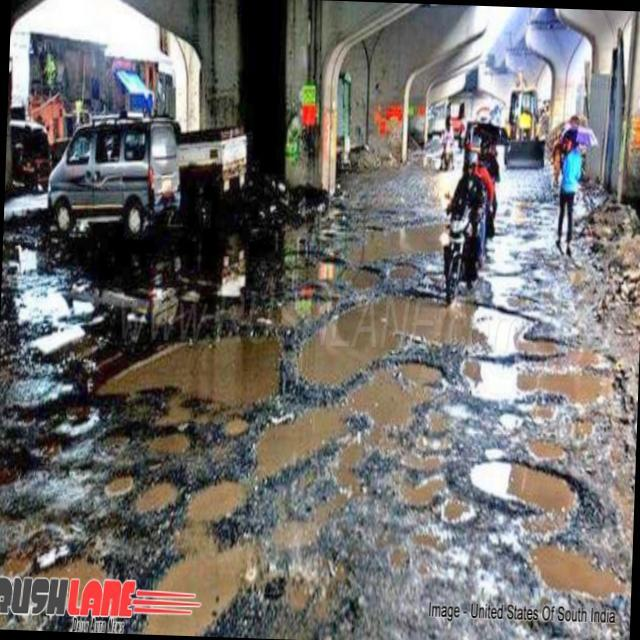Pothole: (291, 276, 531, 403), (89, 313, 287, 412), (135, 534, 253, 638), (460, 337, 620, 413), (468, 451, 594, 523), (533, 532, 625, 608), (252, 400, 346, 474), (349, 352, 417, 441), (182, 475, 245, 521), (394, 340, 448, 392), (275, 291, 339, 331), (134, 473, 180, 515), (152, 424, 190, 456), (314, 247, 346, 280), (352, 259, 384, 291), (222, 408, 247, 440), (105, 470, 132, 498), (496, 404, 525, 429)
